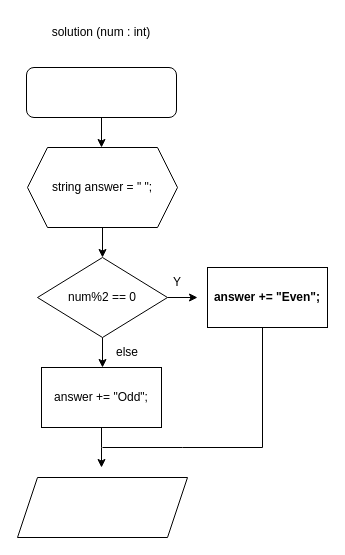
Some shapes in this 345 by 555 pixel diagram are drawn without their labels. Here are the shapes that lost their labels. From the top down, the centre of each, then its label:
the point at 101,92: string solution(int num)
the point at 102,507: return answer;
